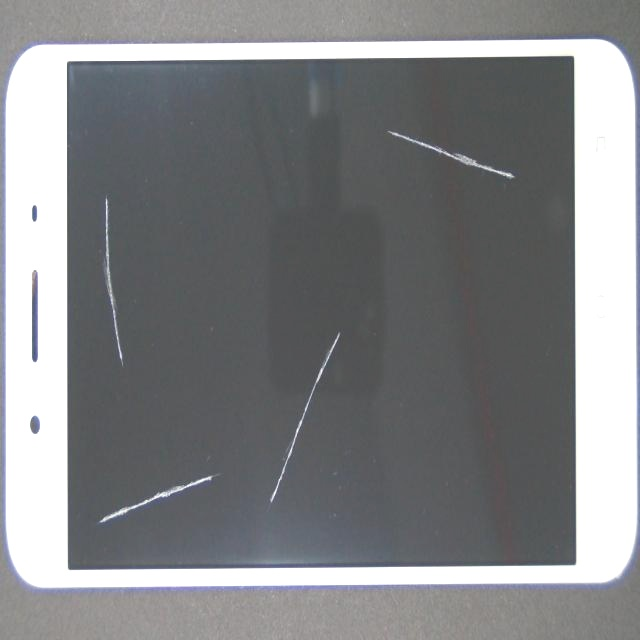scratch: (187, 150, 516, 478), (352, 119, 640, 209)
